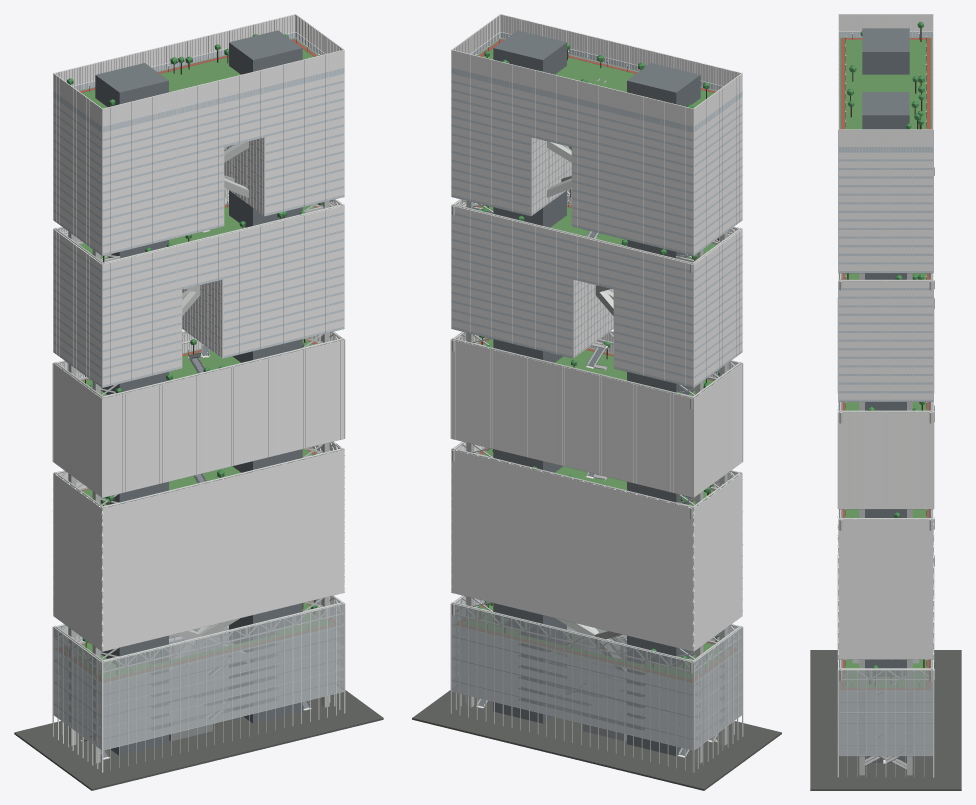
The model's file is the_stack.glb.
The picture shows the model from 3 angles, left to right: view 1: azimuth 30°, elevation 25°; view 2: azimuth 150°, elevation 25°; view 3: azimuth 270°, elevation 25°; orthographic projection. The views are drawn at different scales.
Parts seen in each view (by area): view 1: Web_Stack_Glass_Cool, Web_Stack_Glass_Dark, Web_Stack_Apartment_Frame, Web_Stack_Glass_Frost, Web_Stack_Spandrel_Blue, Web_Stack_Slabs, Web_Stack_Fin, Web_Stack_Core, Ground_Site, Web_Stack_Core_Steel, Web_Stack_Lawn, Web_Stack_Track (+2 smaller); view 2: Web_Stack_Glass_Cool, Web_Stack_Glass_Dark, Web_Stack_Apartment_Frame, Web_Stack_Glass_Frost, Web_Stack_Spandrel_Blue, Web_Stack_Slabs, Web_Stack_Fin, Web_Stack_Core, Ground_Site, Web_Stack_Core_Steel, Web_Stack_Lawn, Web_Stack_Track (+2 smaller); view 3: Web_Stack_Glass_Cool, Web_Stack_Glass_Dark, Web_Stack_Apartment_Frame, Ground_Site, Web_Stack_Spandrel_Blue, Web_Stack_Glass_Frost, Web_Stack_Slabs, Web_Stack_Core, Web_Stack_Lawn, Web_Stack_Fin, Web_Stack_Core_Steel, Web_Stack_Track (+2 smaller).
Boxes of the visible parts, x1,y1,x2,y2 form: Web_Stack_Glass_Cool: (53,331,344,651); Web_Stack_Glass_Dark: (53,14,344,385); Web_Stack_Apartment_Frame: (52,14,345,772); Web_Stack_Glass_Frost: (53,596,343,749); Web_Stack_Spandrel_Blue: (53,32,344,387); Web_Stack_Slabs: (54,37,344,749); Web_Stack_Fin: (52,332,345,497); Web_Stack_Core: (83,30,309,757); Ground_Site: (14,687,383,790); Web_Stack_Core_Steel: (54,141,344,763); Web_Stack_Lawn: (59,38,340,682); Web_Stack_Track: (59,39,339,681); Web_Stack_Glass_Cool: (451,331,742,651); Web_Stack_Glass_Dark: (451,14,742,385); Web_Stack_Apartment_Frame: (450,14,743,772); Web_Stack_Glass_Frost: (452,596,742,749); Web_Stack_Spandrel_Blue: (451,32,742,387); Web_Stack_Slabs: (451,37,741,749); Web_Stack_Fin: (450,332,743,497); Web_Stack_Core: (477,30,721,755); Ground_Site: (412,687,781,790); Web_Stack_Core_Steel: (451,141,741,763); Web_Stack_Lawn: (455,38,736,682); Web_Stack_Track: (456,39,736,681); Web_Stack_Glass_Cool: (838,402,933,659); Web_Stack_Glass_Dark: (838,14,933,399); Web_Stack_Apartment_Frame: (837,14,934,777); Ground_Site: (810,650,961,790); Web_Stack_Spandrel_Blue: (839,32,932,401); Web_Stack_Glass_Frost: (838,659,933,755); Web_Stack_Slabs: (838,37,933,756); Web_Stack_Core: (862,28,909,770); Web_Stack_Lawn: (840,37,931,689); Web_Stack_Fin: (837,297,934,509); Web_Stack_Core_Steel: (838,167,934,775); Web_Stack_Track: (841,38,930,689).
Bounding box in the file's own units: 139 × 303 × 64.
